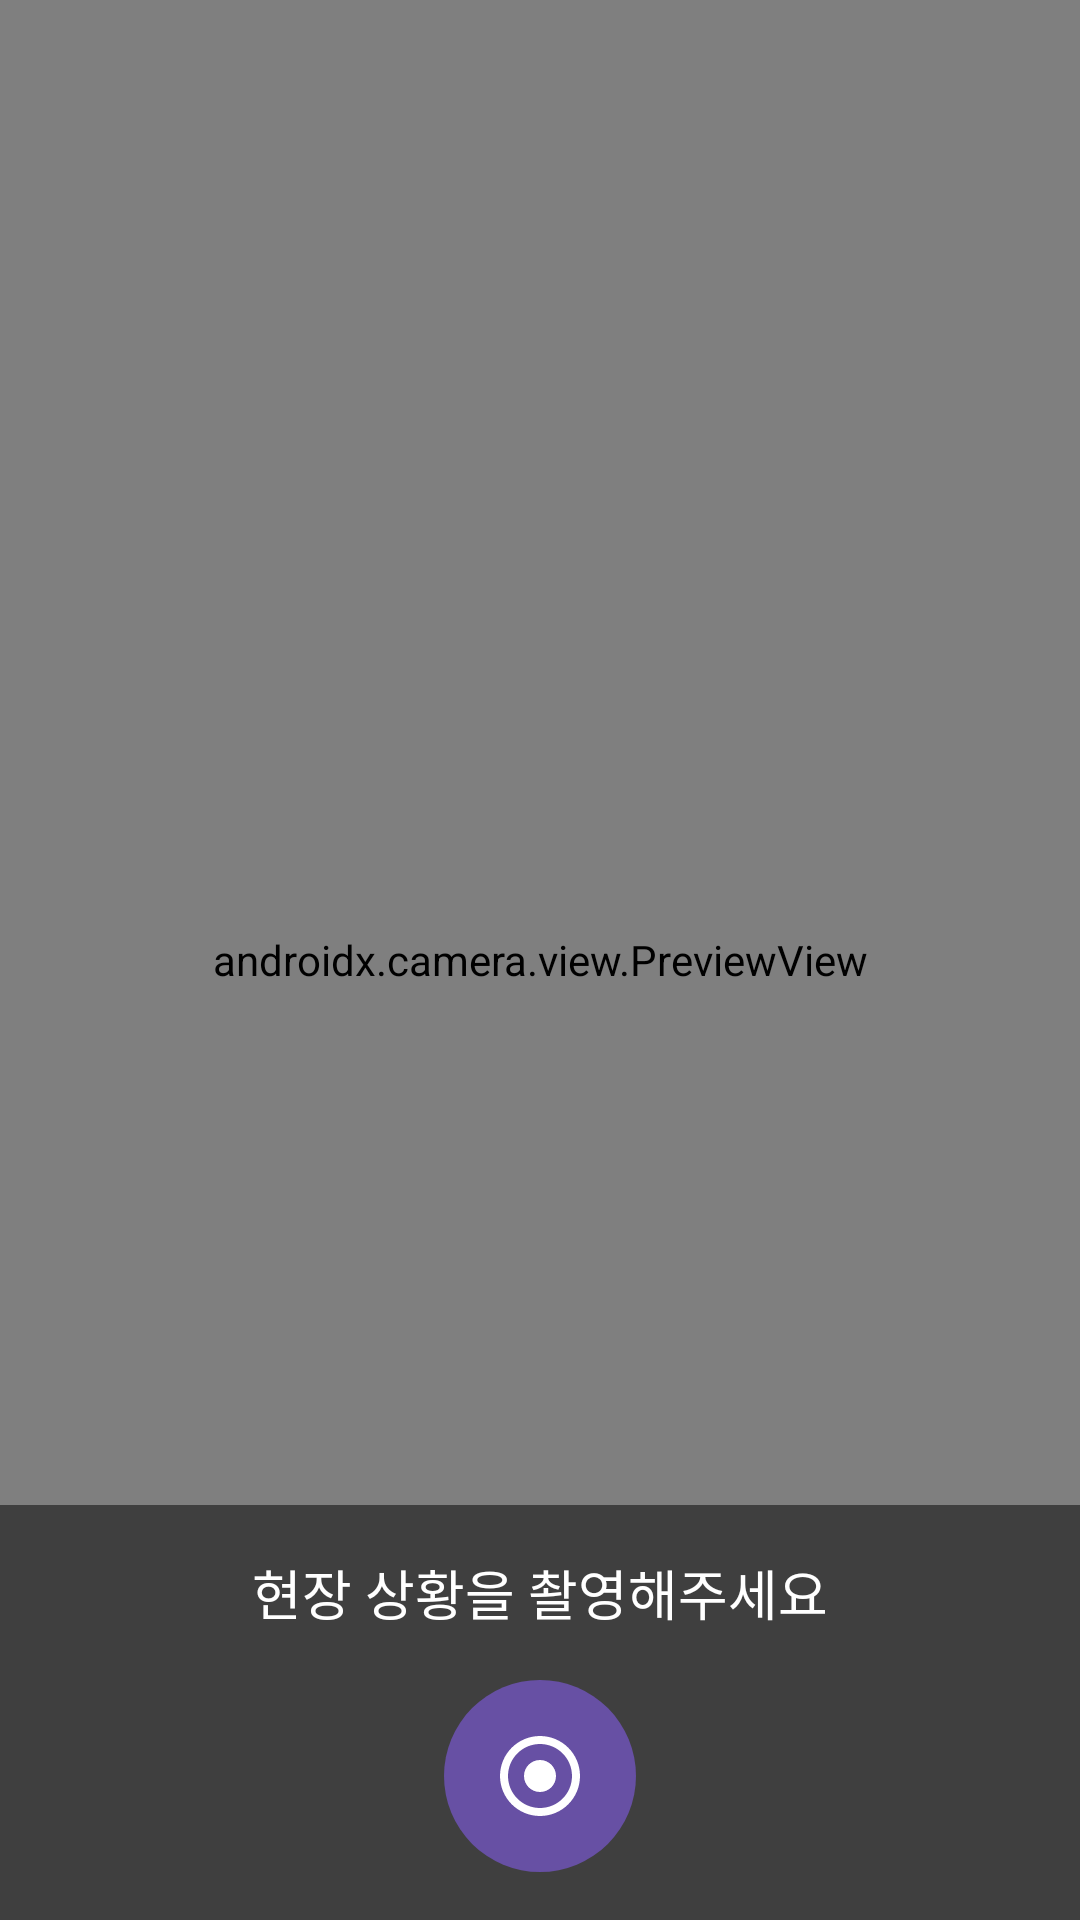

Locate icon controls on the screen. Image size 1080*1920, boxes as Rect(x1, y1, x2, y2).
record: Rect(444, 1680, 636, 1872)
